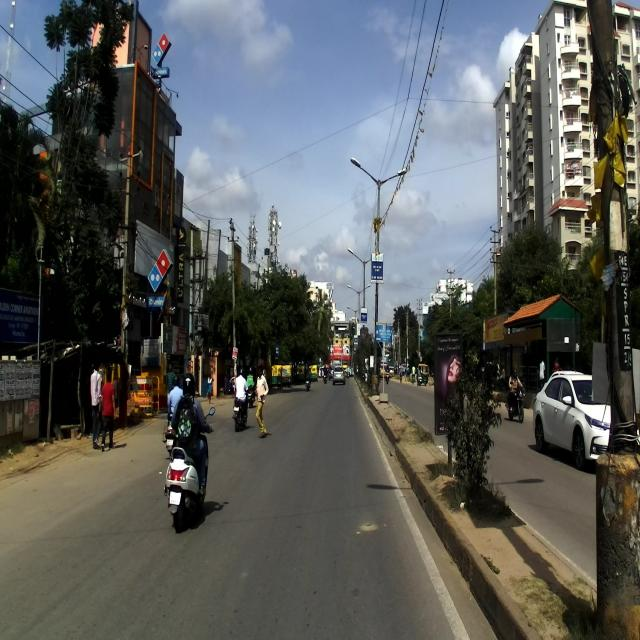scooter: (163, 404, 216, 532)
